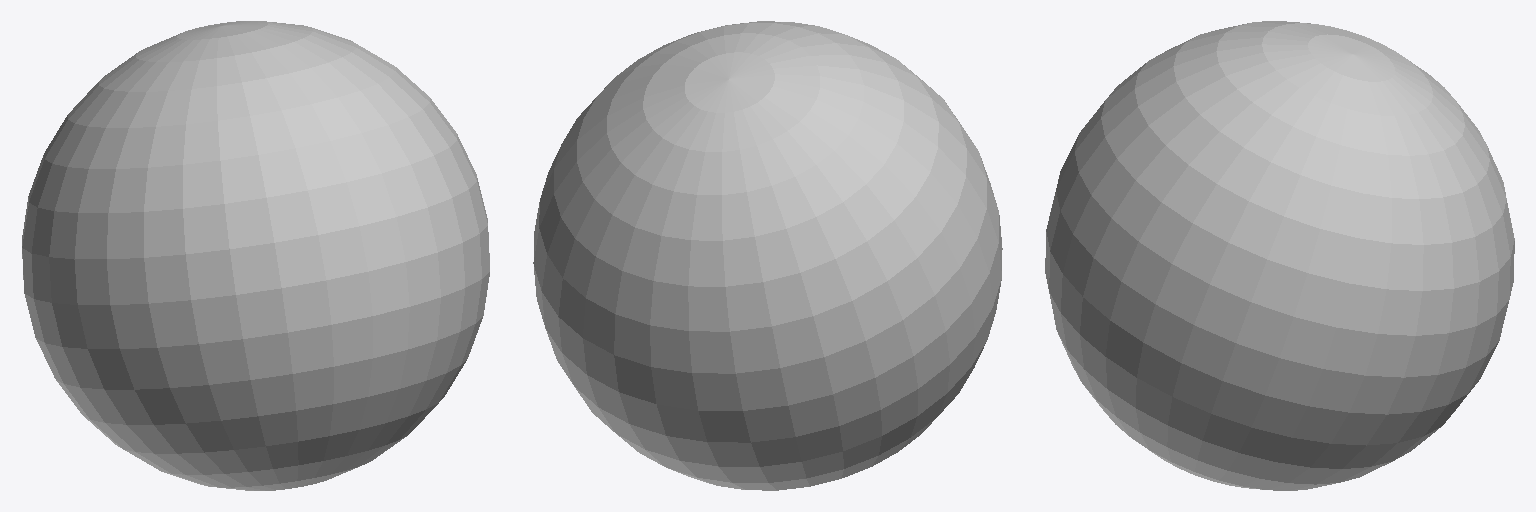
Rendered from Left Elbow.obj.
3 renders of one model, left to right at view 1: azimuth 30°, elevation 25°; view 2: azimuth 150°, elevation 25°; view 3: azimuth 270°, elevation 25°, orthographic.
Visible parts, largest first — view 1: Left_Elbow_Sphere.033; view 2: Left_Elbow_Sphere.033; view 3: Left_Elbow_Sphere.033.
Part boxes in pixels (bbox=[...]): Left_Elbow_Sphere.033: bbox=[22, 21, 489, 490]; Left_Elbow_Sphere.033: bbox=[533, 21, 1002, 490]; Left_Elbow_Sphere.033: bbox=[1045, 21, 1514, 490].
Size of the model in its own units: 0.4502 by 0.4489 by 0.4489.